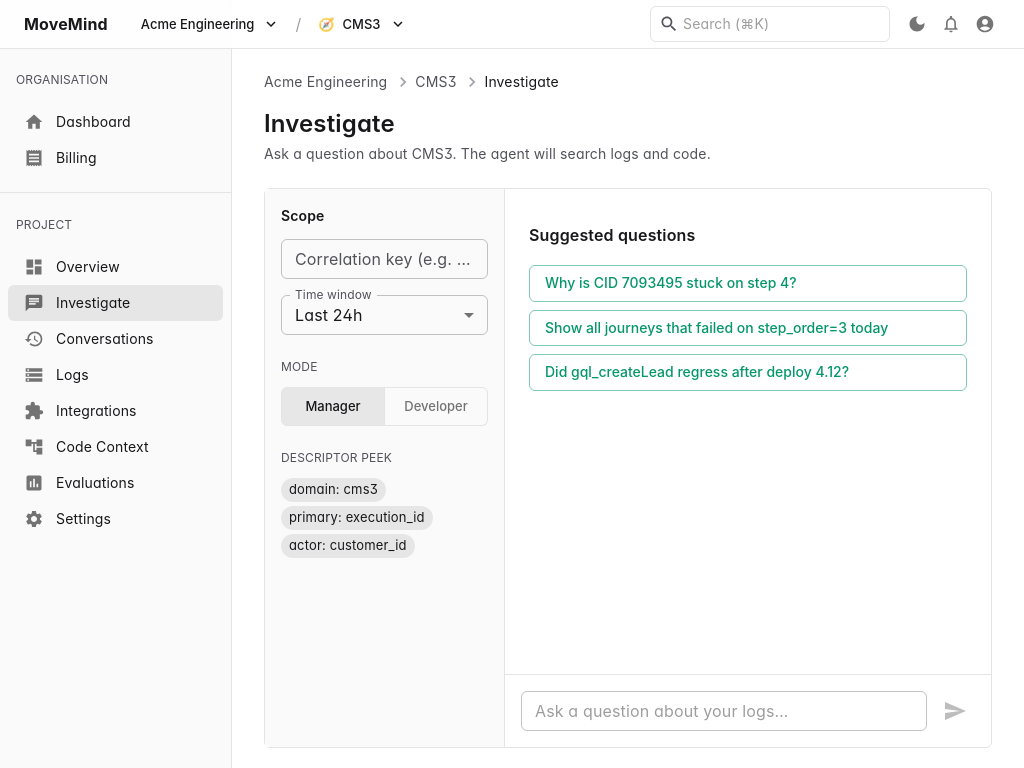
InvestigatePage › fills input on suggestion click
What coordinates should you click on to do the following:
click the button "Why is CID 7093495 stuck on step 4?"
I would click on:
 (748, 283)
Its box is [529,265,967,302].
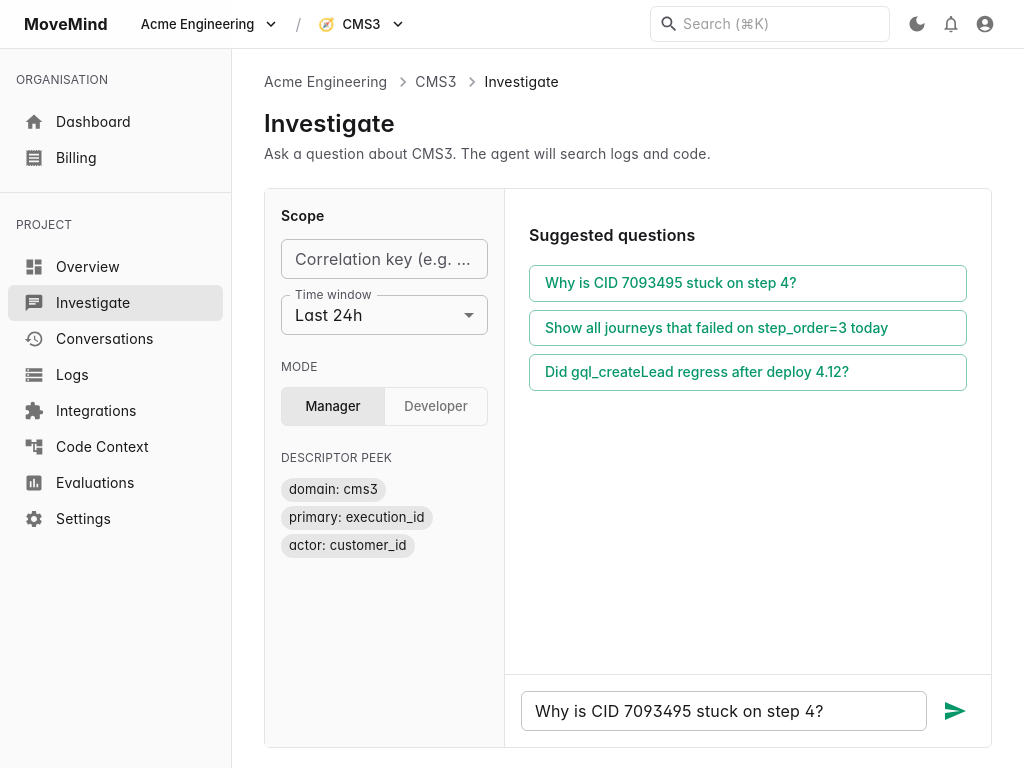
Expected: the field named "question input" holds "Why is CID 7093495 stuck on step 4?", [521,691,927,731]
